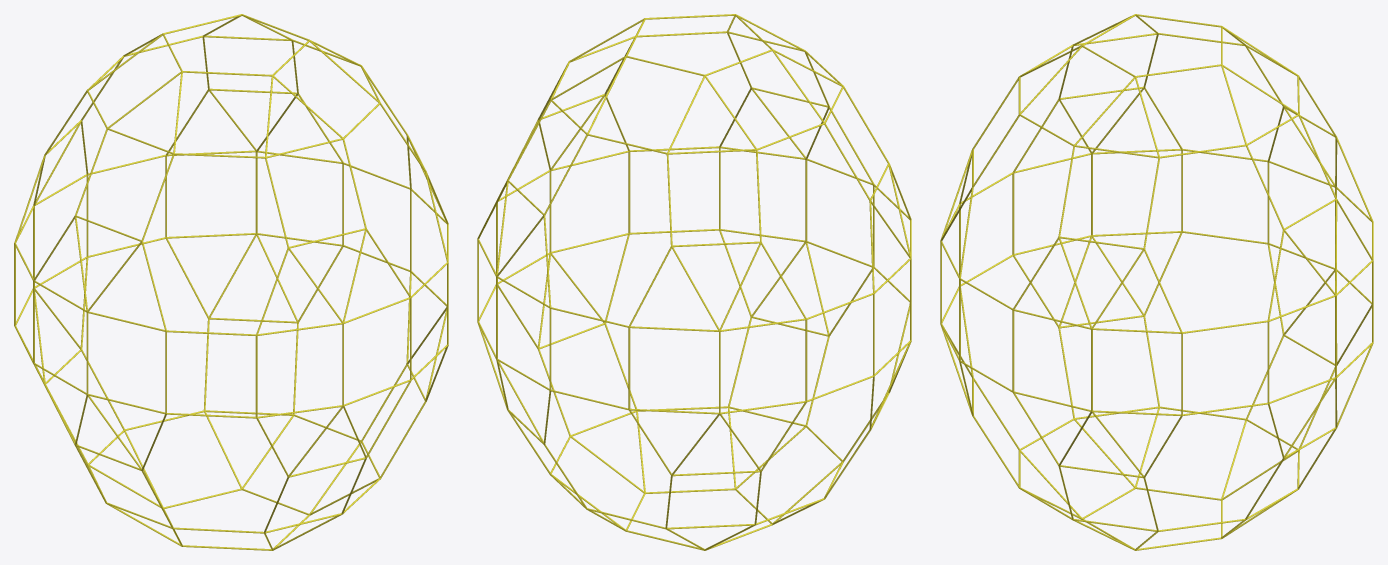
File: trinexus3_1.glb
The picture shows the model from 3 angles, left to right: view 1: azimuth 30°, elevation 25°; view 2: azimuth 150°, elevation 25°; view 3: azimuth 270°, elevation 25°; orthographic projection.
Parts seen in each view (by area): view 1: Mesh_0; view 2: Mesh_0; view 3: Mesh_0.
Part boxes in pixels (x1,y1,x2,y2): Mesh_0: (14, 14, 448, 550); Mesh_0: (477, 14, 911, 550); Mesh_0: (940, 14, 1373, 550).
Size of the model in its own units: 11.05 by 13.28 by 10.99.
